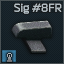P226 front sight: (0, 0, 64, 64)
